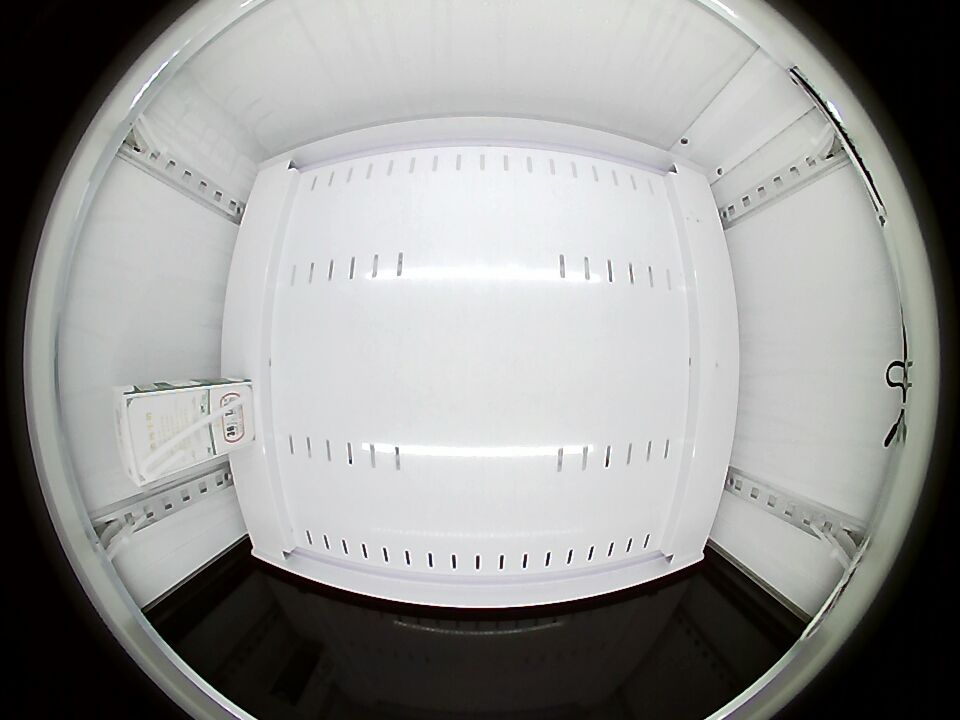jindian: (113, 382, 181, 487)
